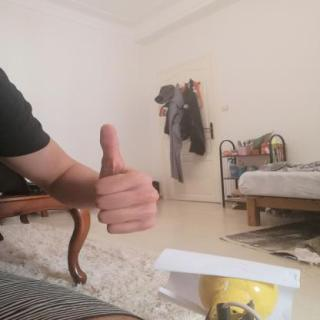ALIF: (73, 115, 173, 240)
